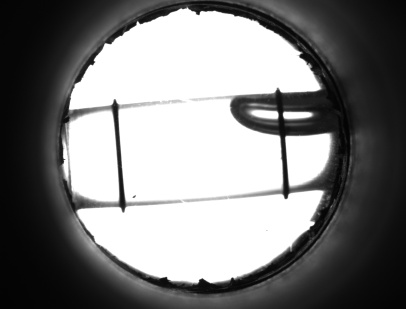line: (109, 119, 129, 194), (277, 142, 295, 184)
